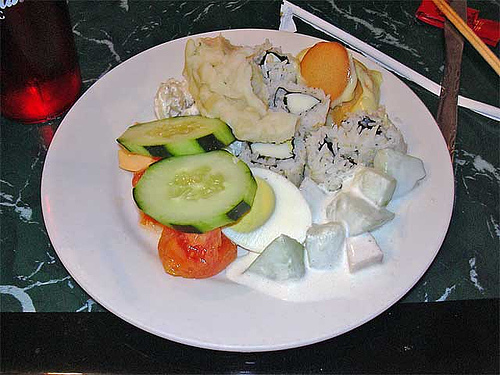cucumber: (132, 150, 260, 233), (116, 113, 238, 159)
